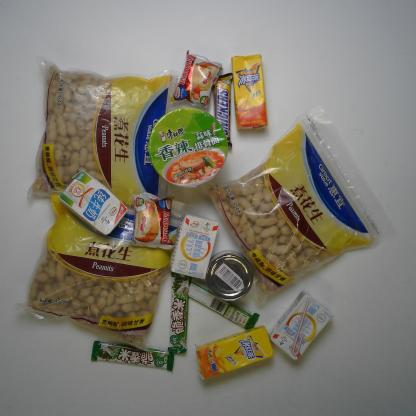Canned Food: (206, 249, 254, 303)
Chocolate: (184, 278, 260, 332), (90, 340, 176, 373), (166, 270, 194, 354), (212, 72, 233, 150)
Dessert: (168, 49, 224, 110), (131, 191, 176, 250)
Dried Food: (207, 104, 400, 310), (15, 187, 186, 353), (24, 57, 178, 212)
Drink: (195, 325, 276, 380), (232, 54, 268, 132)
Instant Noodles: (148, 107, 227, 189)
Milk: (268, 290, 333, 362), (58, 170, 128, 236), (169, 213, 219, 280)
